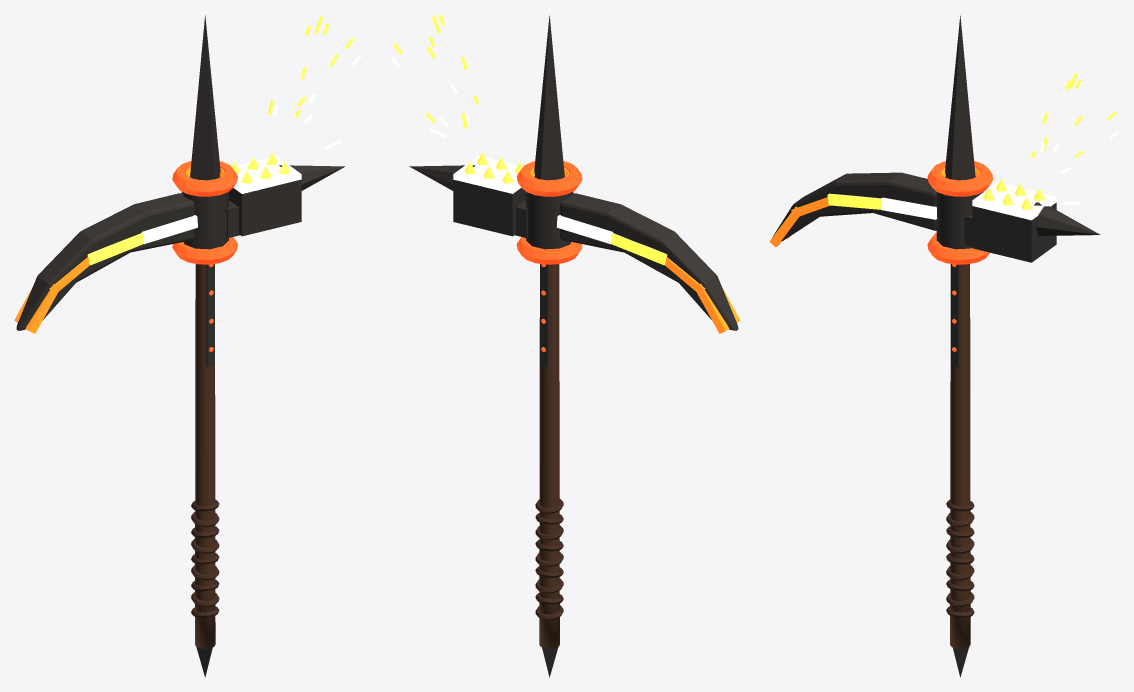
File: anvilheart.glb
3 renders of one model, left to right at view 1: azimuth 30°, elevation 25°; view 2: azimuth 150°, elevation 25°; view 3: azimuth 330°, elevation 25°, orthographic.
Parts seen in each view (by area): view 1: AX15_Beak, AX15_Haft, AX15_Anvil, AX15_Spike, AX15_Socket, AX15_Socket_Top, AX15_Face, AX15_Socket_Bot, AX15_Langet-1, AX15_HeatW-1_0, AX15_HeatY-1_0, AX15_Horn; view 2: AX15_Beak, AX15_Haft, AX15_Anvil, AX15_Spike, AX15_Socket, AX15_Socket_Top, AX15_Face, AX15_Socket_Bot, AX15_Langet1, AX15_HeatW1_0, AX15_HeatY1_0, AX15_Horn (+1 smaller); view 3: AX15_Haft, AX15_Beak, AX15_Anvil, AX15_Spike, AX15_Socket, AX15_Face, AX15_Socket_Top, AX15_Horn, AX15_Langet-1, AX15_Socket_Bot, AX15_HeatW-1_0, AX15_HeatY-1_0.
Part boxes in pixels (x1=…): AX15_Beak: x1=16, y1=193, x2=194, y2=330; AX15_Haft: x1=195, y1=264, x2=215, y2=648; AX15_Anvil: x1=229, y1=179, x2=301, y2=236; AX15_Spike: x1=190, y1=15, x2=220, y2=180; AX15_Socket: x1=181, y1=176, x2=228, y2=249; AX15_Socket_Top: x1=172, y1=161, x2=237, y2=196; AX15_Face: x1=233, y1=156, x2=301, y2=193; AX15_Socket_Bot: x1=172, y1=237, x2=237, y2=264; AX15_Langet-1: x1=206, y1=264, x2=214, y2=366; AX15_HeatW-1_0: x1=141, y1=215, x2=197, y2=244; AX15_HeatY-1_0: x1=87, y1=233, x2=143, y2=265; AX15_Horn: x1=279, y1=165, x2=345, y2=190; AX15_Beak: x1=560, y1=193, x2=738, y2=330; AX15_Haft: x1=539, y1=264, x2=559, y2=648; AX15_Anvil: x1=453, y1=180, x2=525, y2=236; AX15_Spike: x1=534, y1=15, x2=564, y2=180; AX15_Socket: x1=526, y1=176, x2=573, y2=249; AX15_Socket_Top: x1=516, y1=161, x2=582, y2=196; AX15_Face: x1=453, y1=156, x2=521, y2=193; AX15_Socket_Bot: x1=516, y1=237, x2=582, y2=264; AX15_Langet1: x1=540, y1=264, x2=548, y2=366; AX15_HeatW1_0: x1=556, y1=215, x2=613, y2=244; AX15_HeatY1_0: x1=611, y1=233, x2=667, y2=264; AX15_Horn: x1=409, y1=165, x2=475, y2=190; AX15_Haft: x1=950, y1=264, x2=970, y2=648; AX15_Beak: x1=772, y1=172, x2=936, y2=241; AX15_Anvil: x1=972, y1=202, x2=1056, y2=262; AX15_Spike: x1=945, y1=15, x2=975, y2=180; AX15_Socket: x1=936, y1=176, x2=983, y2=249; AX15_Face: x1=972, y1=182, x2=1056, y2=220; AX15_Socket_Top: x1=927, y1=161, x2=993, y2=196; AX15_Horn: x1=1034, y1=202, x2=1100, y2=235; AX15_Langet-1: x1=950, y1=264, x2=959, y2=366; AX15_Socket_Bot: x1=927, y1=233, x2=989, y2=264; AX15_HeatW-1_0: x1=881, y1=197, x2=937, y2=219; AX15_HeatY-1_0: x1=827, y1=193, x2=881, y2=209.
Size of the model in its own units: 1.09 by 2 by 0.1809.
